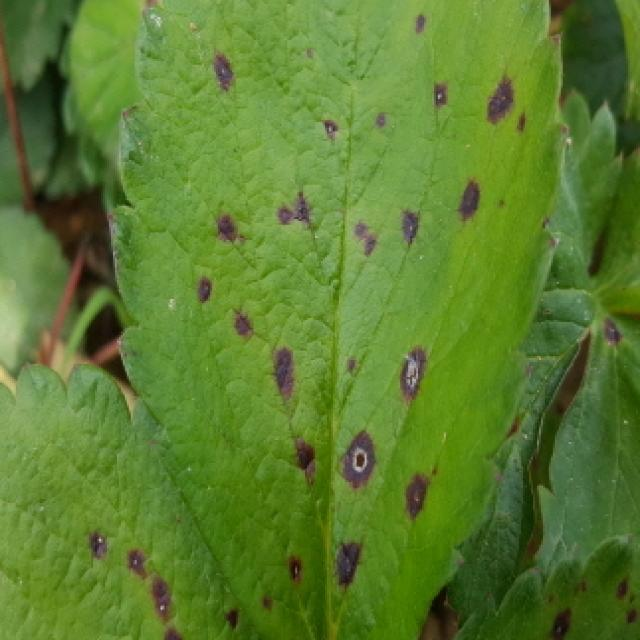Leaf Spot: (104, 0, 572, 640), (0, 362, 262, 640), (420, 291, 600, 640), (528, 310, 640, 584), (449, 534, 640, 640), (555, 0, 640, 157), (592, 151, 640, 315)
